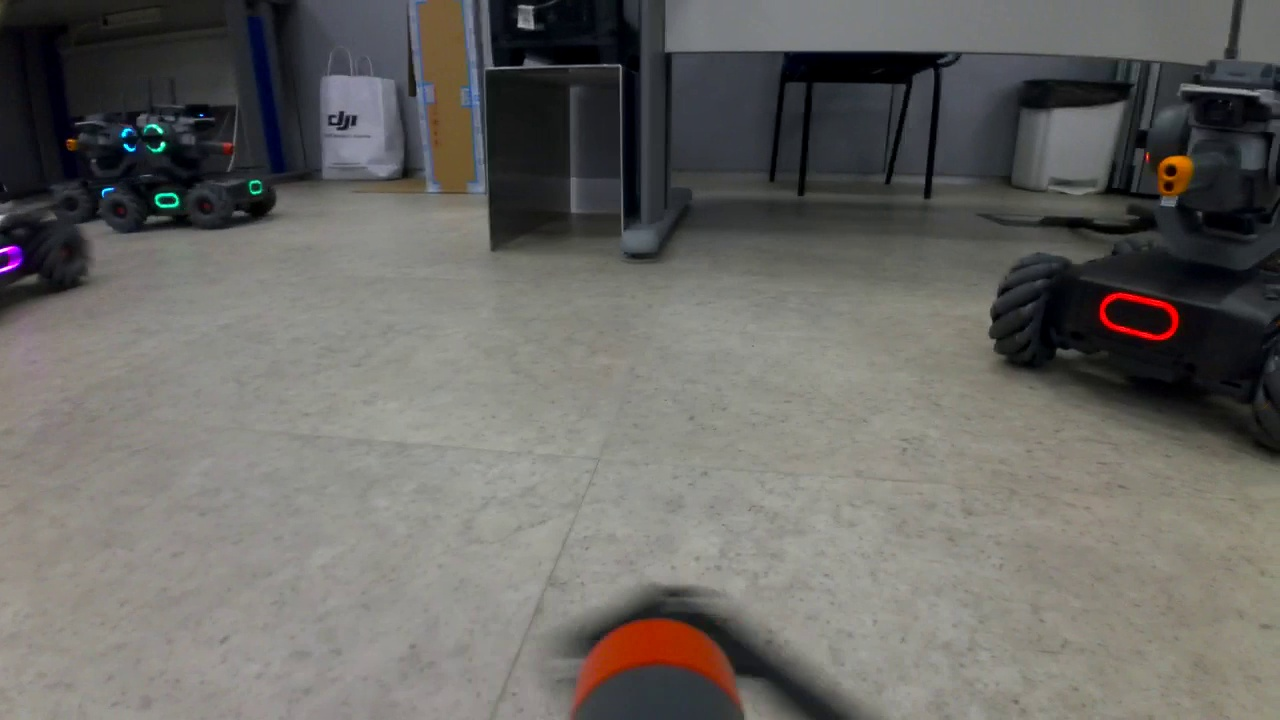robot: (990, 60, 1276, 468), (100, 104, 281, 234), (45, 113, 100, 224)
